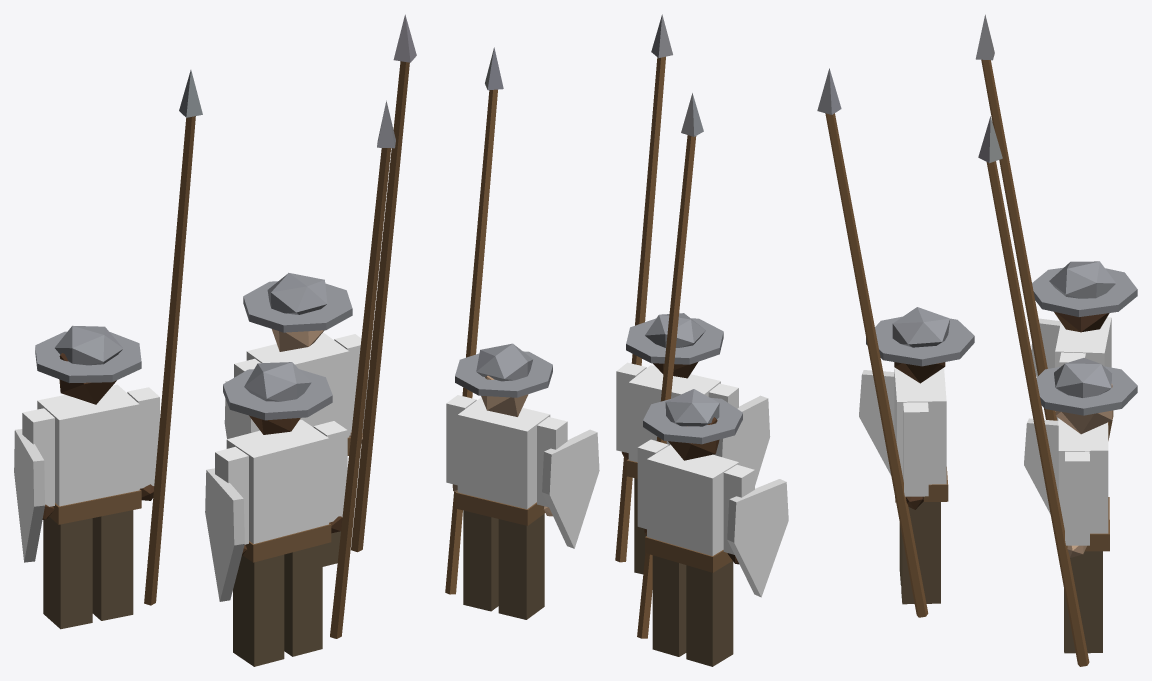
Rendered from Pikeman.glb.
3 views of the same model, side by side, from view 1: azimuth 30°, elevation 25°; view 2: azimuth 150°, elevation 25°; view 3: azimuth 270°, elevation 25° (orthographic). The views are drawn at different scales.
Visible parts, largest first — view 1: Units_Pikeman; view 2: Units_Pikeman; view 3: Units_Pikeman.
Part boxes in pixels (x1,y1,x2,y2): Units_Pikeman: (14,14,416,666); Units_Pikeman: (445,14,788,666); Units_Pikeman: (817,14,1137,666).
Size of the model in its own units: 0.2577 by 0.3906 by 0.2065.
